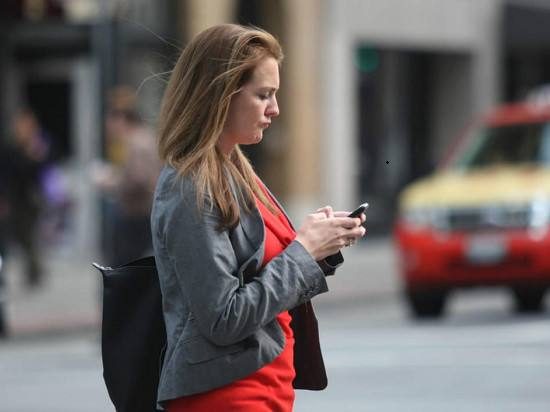reading: (297, 200, 372, 260)
